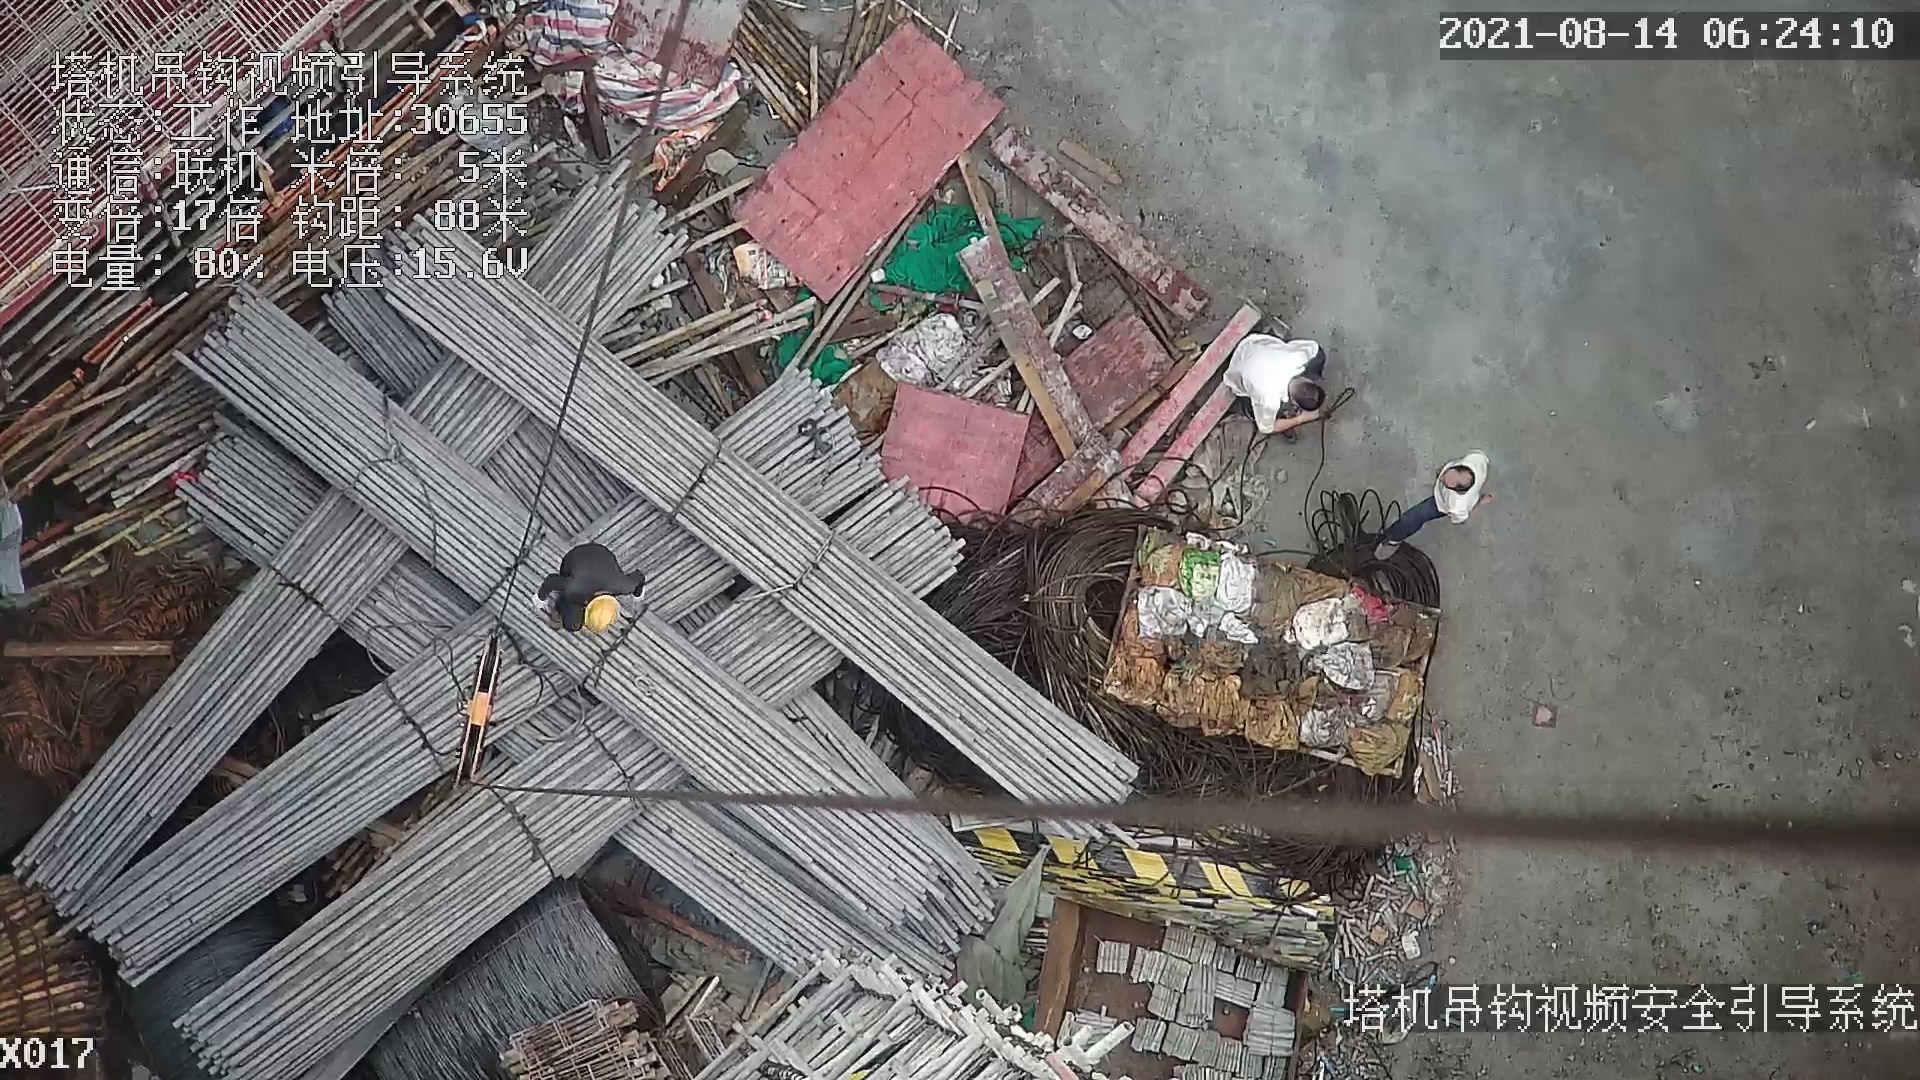helmet: (584, 596, 620, 632)
hook: (446, 622, 491, 796)
person: (1369, 433, 1495, 563), (1213, 327, 1333, 444), (524, 532, 650, 630)
rebar: (177, 291, 942, 929), (367, 281, 1143, 856), (59, 612, 575, 992), (174, 706, 694, 1080), (20, 491, 413, 915)
wood: (1, 872, 108, 1031)
